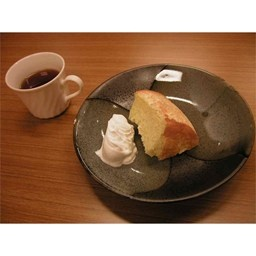background: (38, 32, 80, 66), (8, 8, 23, 35)
